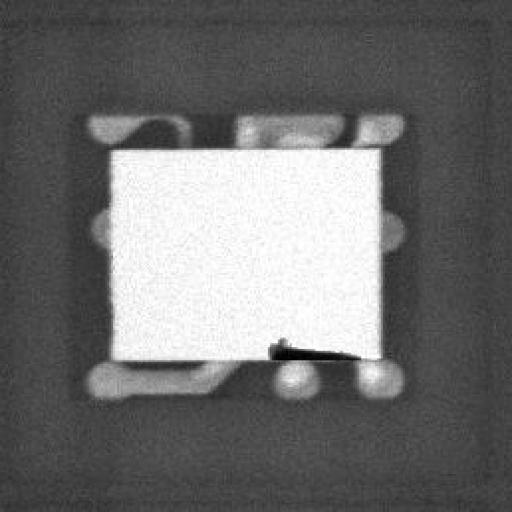DIE_BROKEN: (264, 336, 359, 362)
